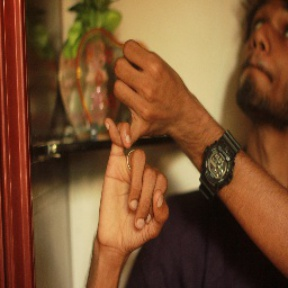S: (90, 38, 177, 245)
